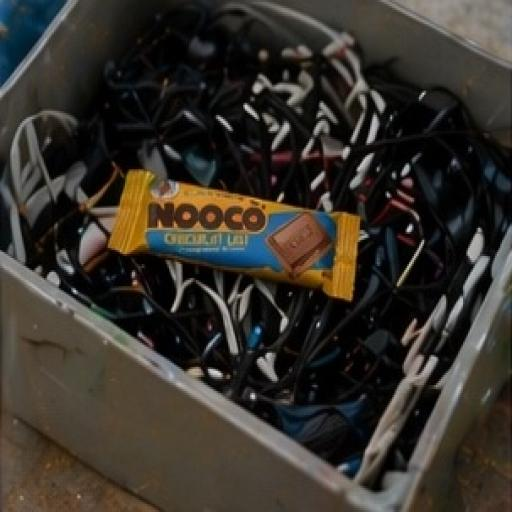nooco: (102, 128, 384, 330)
